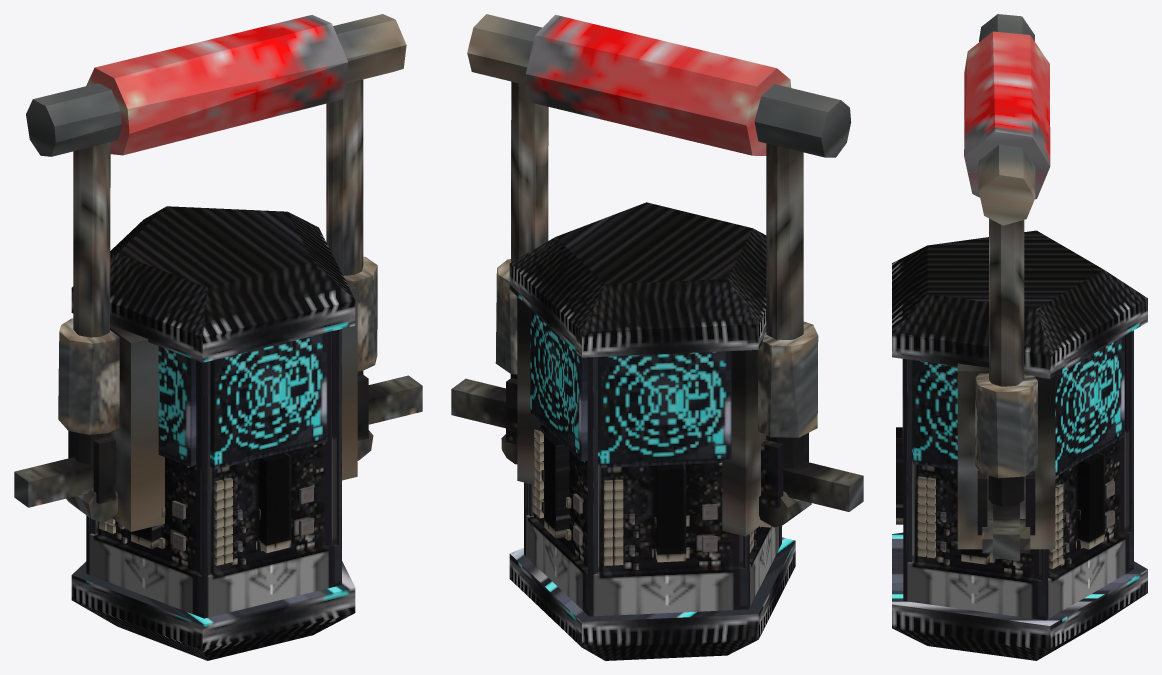
Rendered from shock_trap.fbx.
3 renders of one model, left to right at view 1: azimuth 30°, elevation 25°; view 2: azimuth 150°, elevation 25°; view 3: azimuth 270°, elevation 25°, orthographic. The views are drawn at different scales.
Visible parts, largest first — view 1: shocktrap; view 2: shocktrap; view 3: shocktrap.
Part boxes in pixels (left/top/right/bottom): shocktrap: left=14, top=14, right=422, bottom=660; shocktrap: left=451, top=14, right=863, bottom=660; shocktrap: left=892, top=14, right=1147, bottom=660.
Size of the model in its own units: 337 by 467 by 201.
